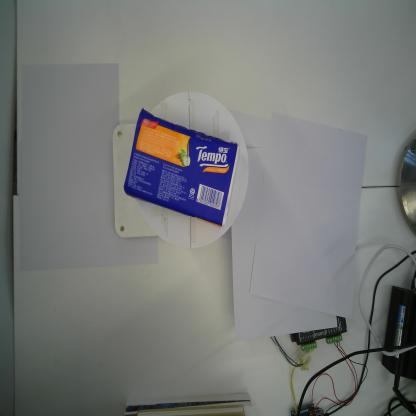Tissue: (121, 105, 240, 230)
